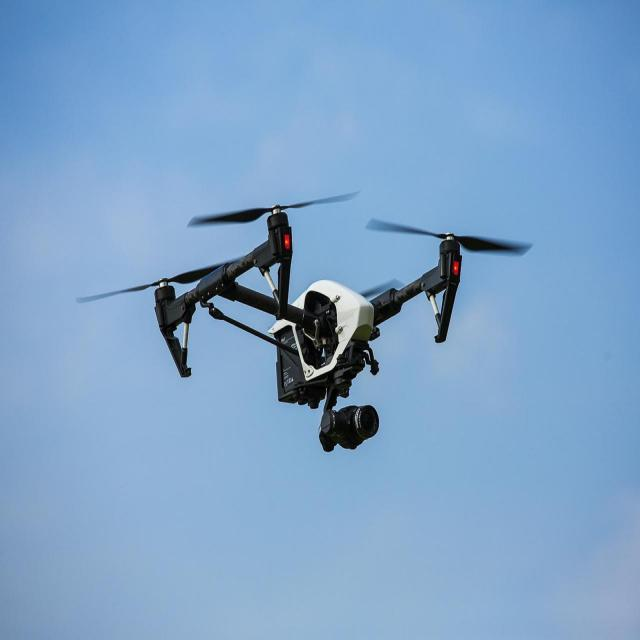UAV: (152, 194, 465, 451)
